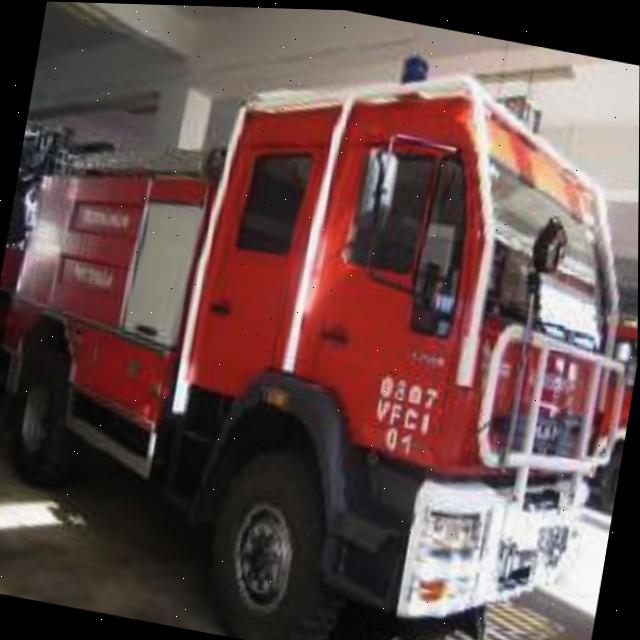emergency: (0, 6, 639, 640)
